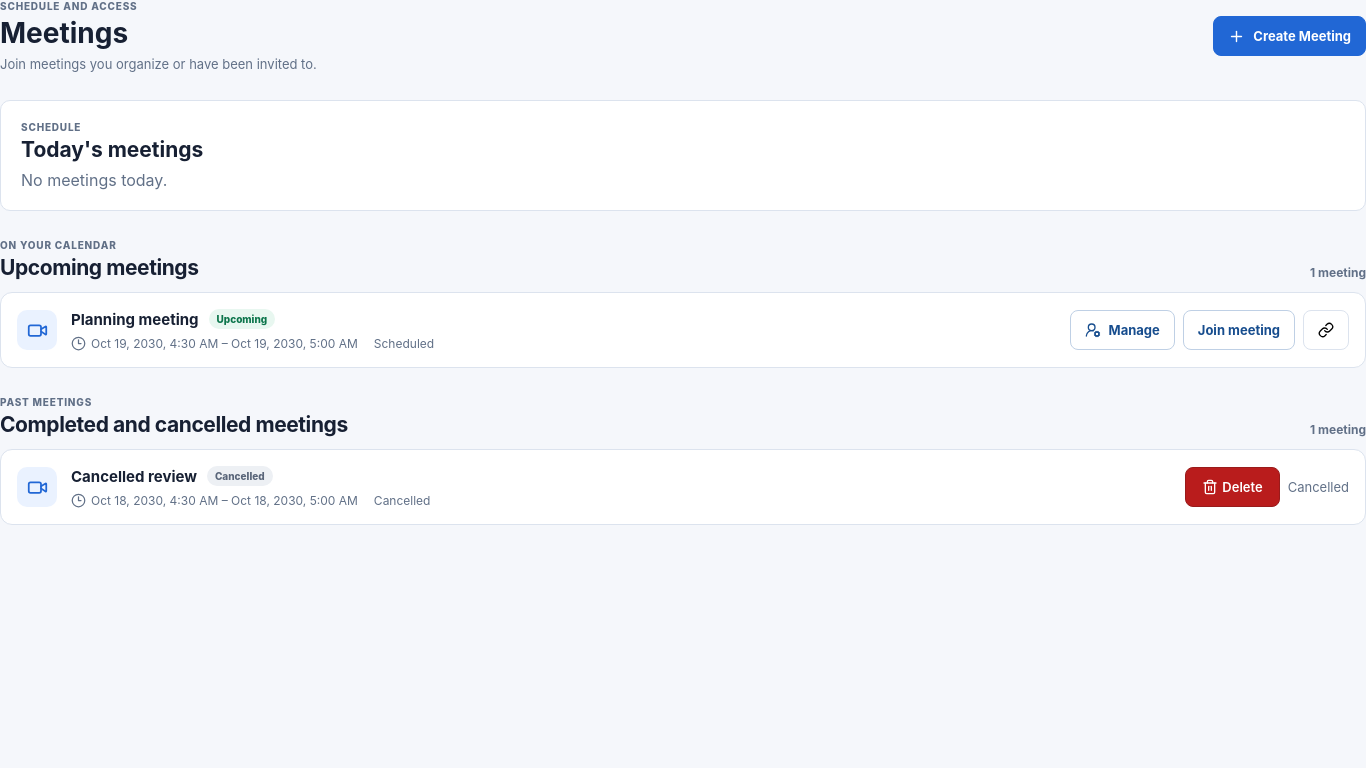
it: MeetingsPage organization timezone display › shows cancelled meetings distinctly and provides organizer participant controls
Check: the text "Cancelled" is shown 2 times, box [207,466,273,486]; [1288,479,1349,495]
Click the button with aria-label "Manage Planning meeting": x=1122, y=330 [1070,310,1175,350]
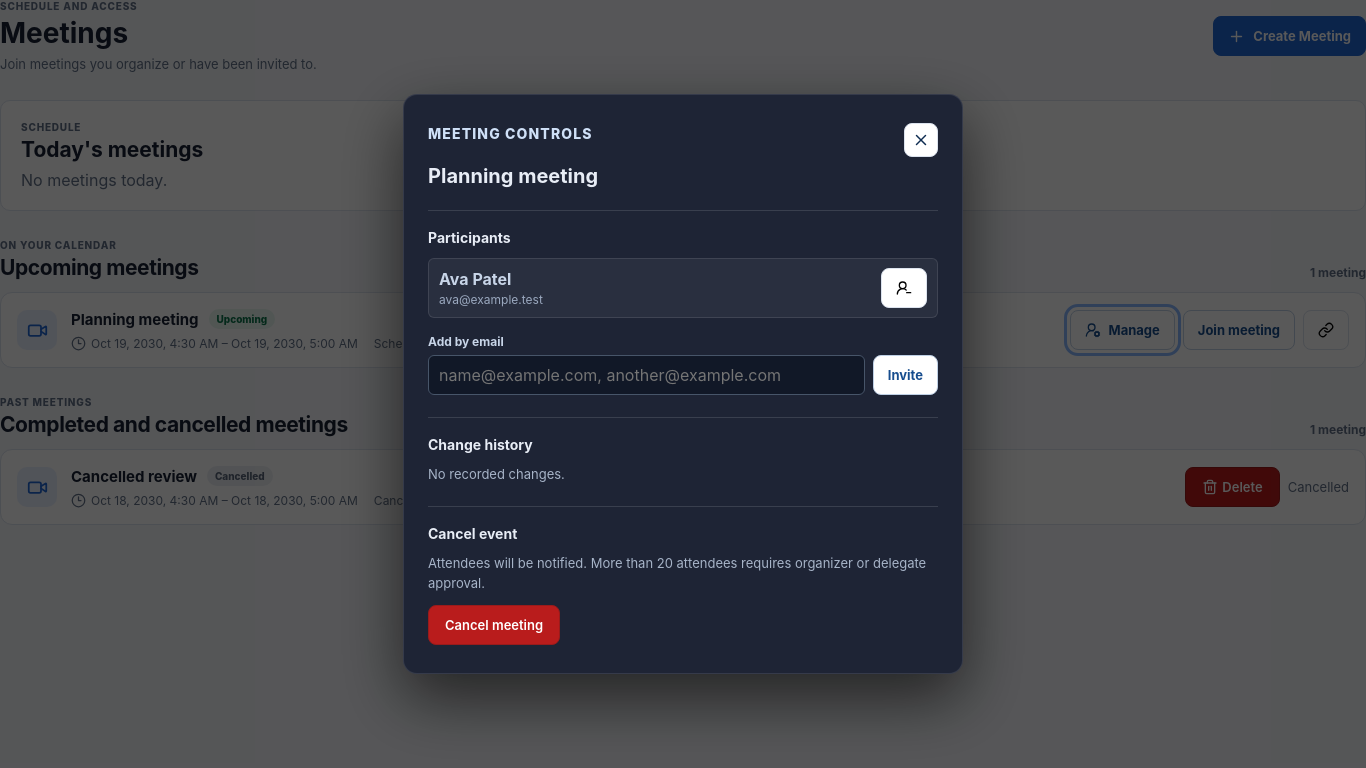
Check: the text "Ava Patel" is shown, box [439,269,511,289]
In the field labelled "Add by email": x=646, y=375 [428,355,865,395], type "new@example.test"
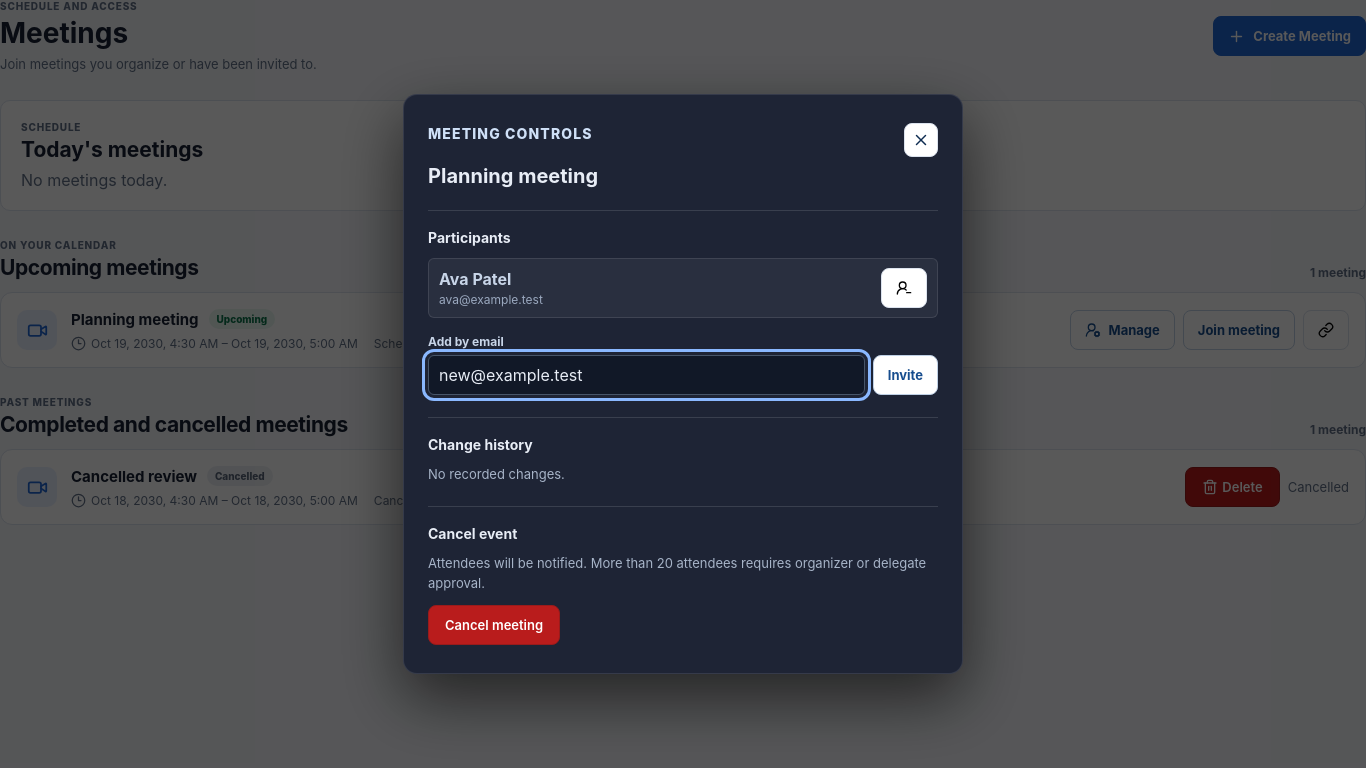
Click the button "Invite": x=905, y=375 [873,355,938,395]
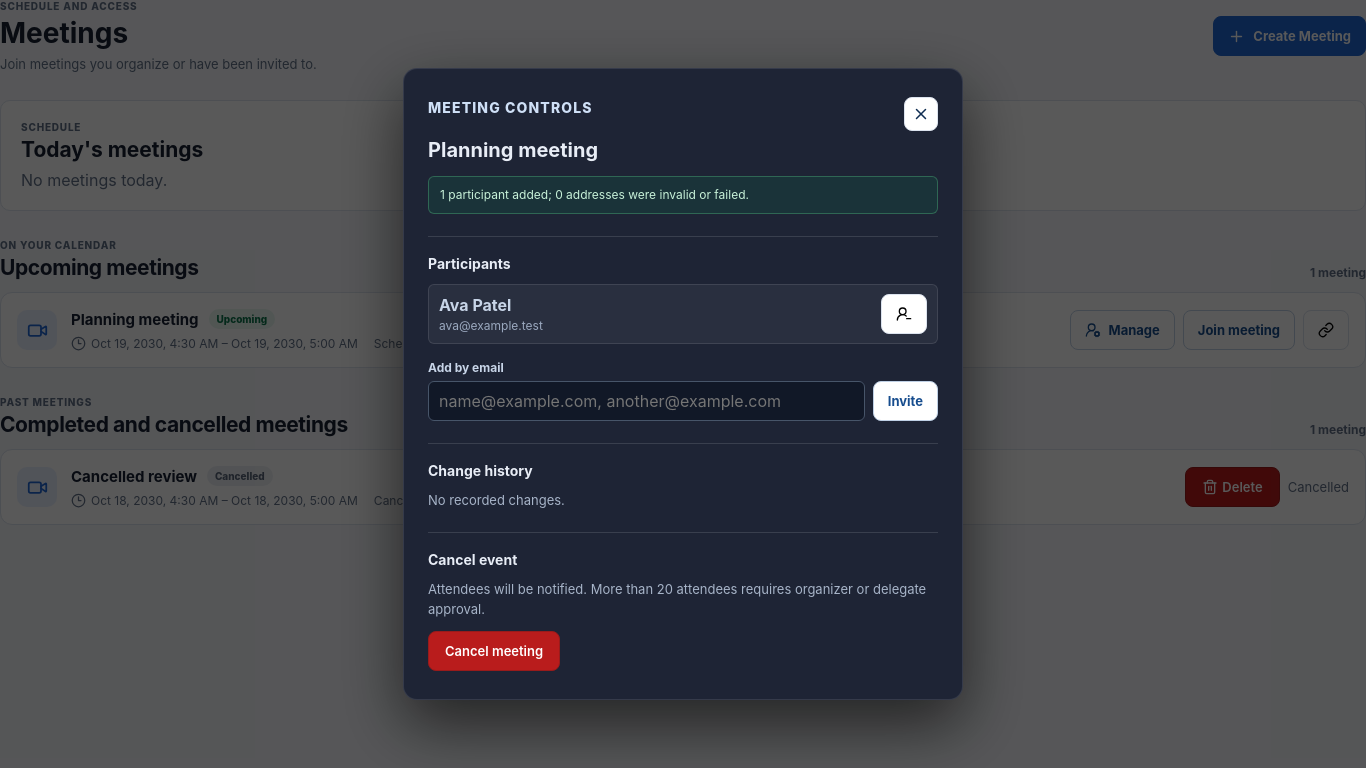
Check: the message reads "1 participant added; 0 addresses were invalid or failed.", box [440,187,749,202]
Click the button named "Remove Ava Patel": x=904, y=314 [881,294,927,334]
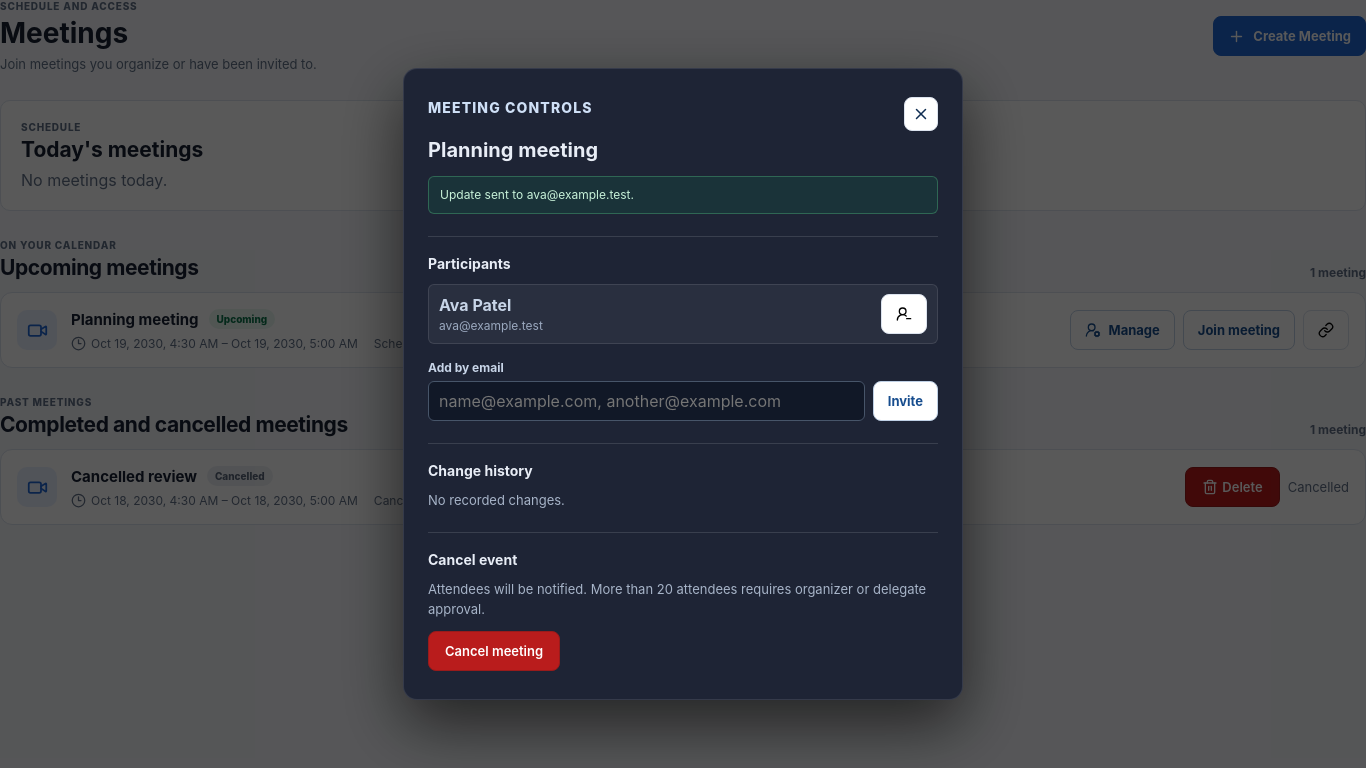
Check: the message reads "Update sent to ava@example.test.", box [440,187,634,202]
Click the button "Cancel meeting": x=494, y=651 [428,631,560,671]
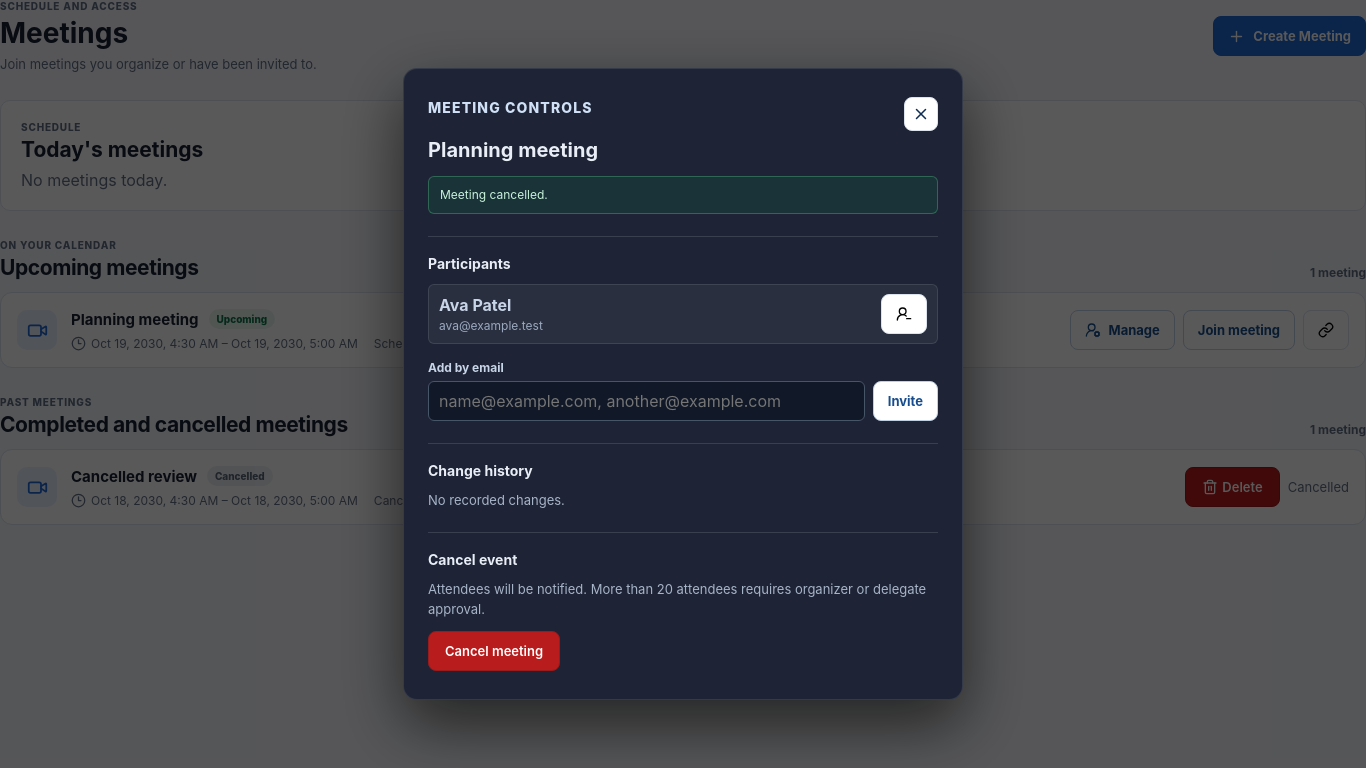
Check: the message reads "Meeting cancelled.", box [440,187,548,202]
